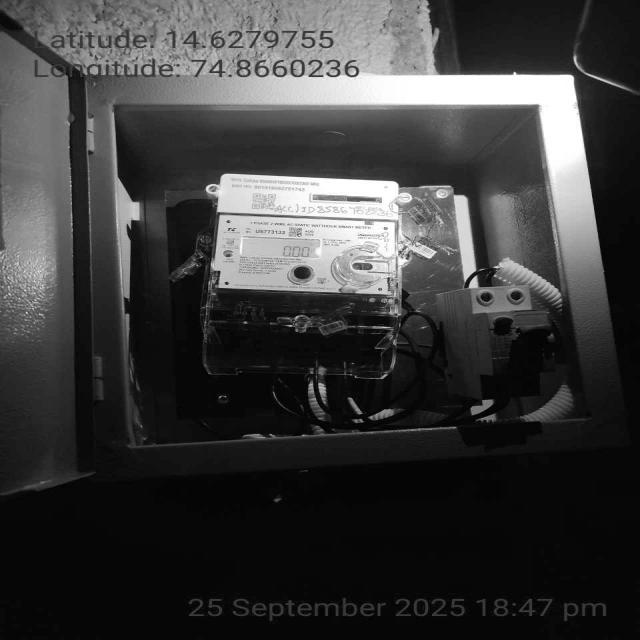meter: (202, 172, 409, 297)
